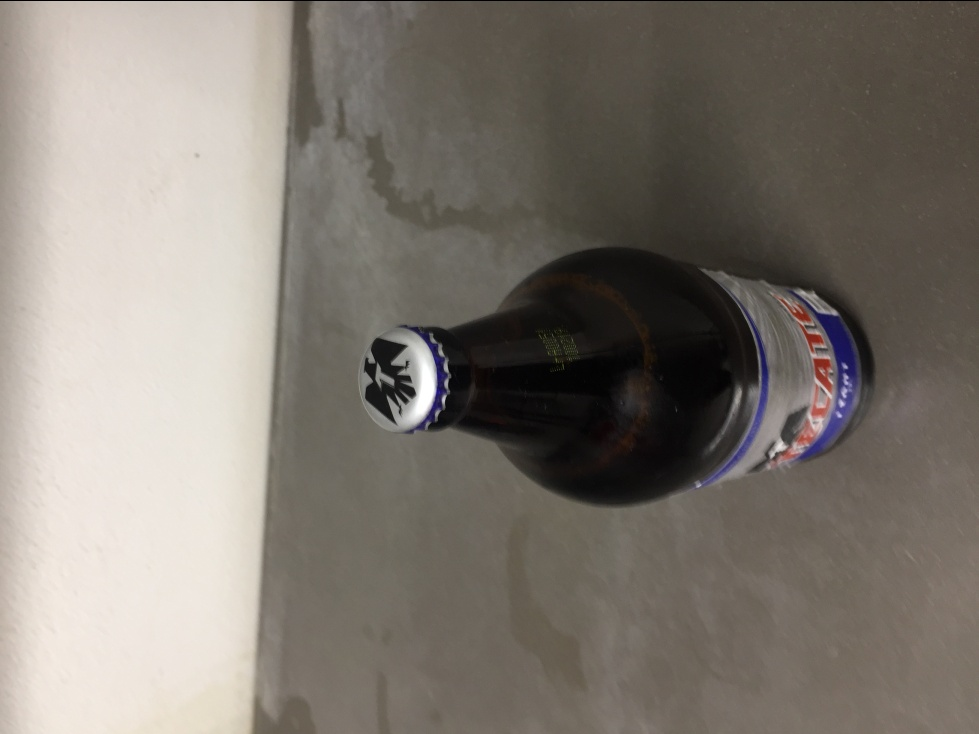tecateC: (360, 246, 876, 511)
